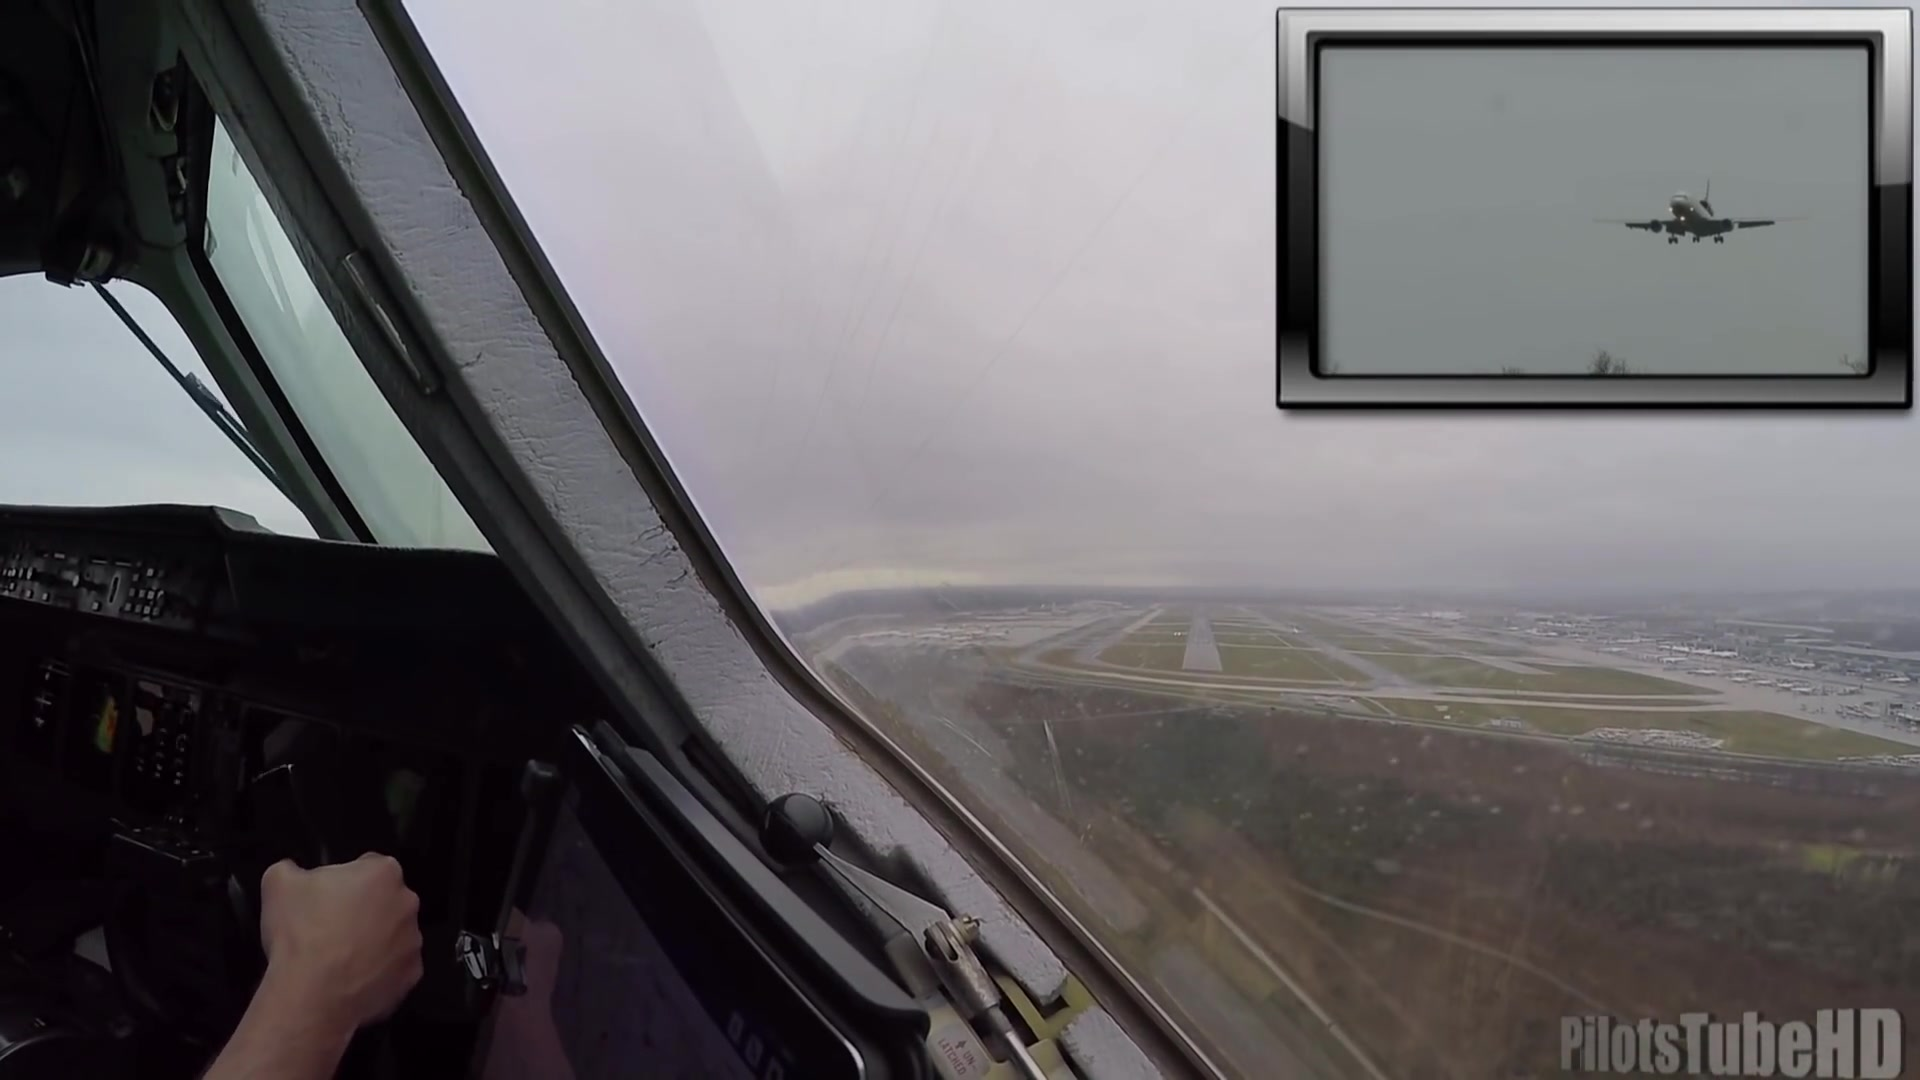runway: (1180, 617, 1222, 673)
